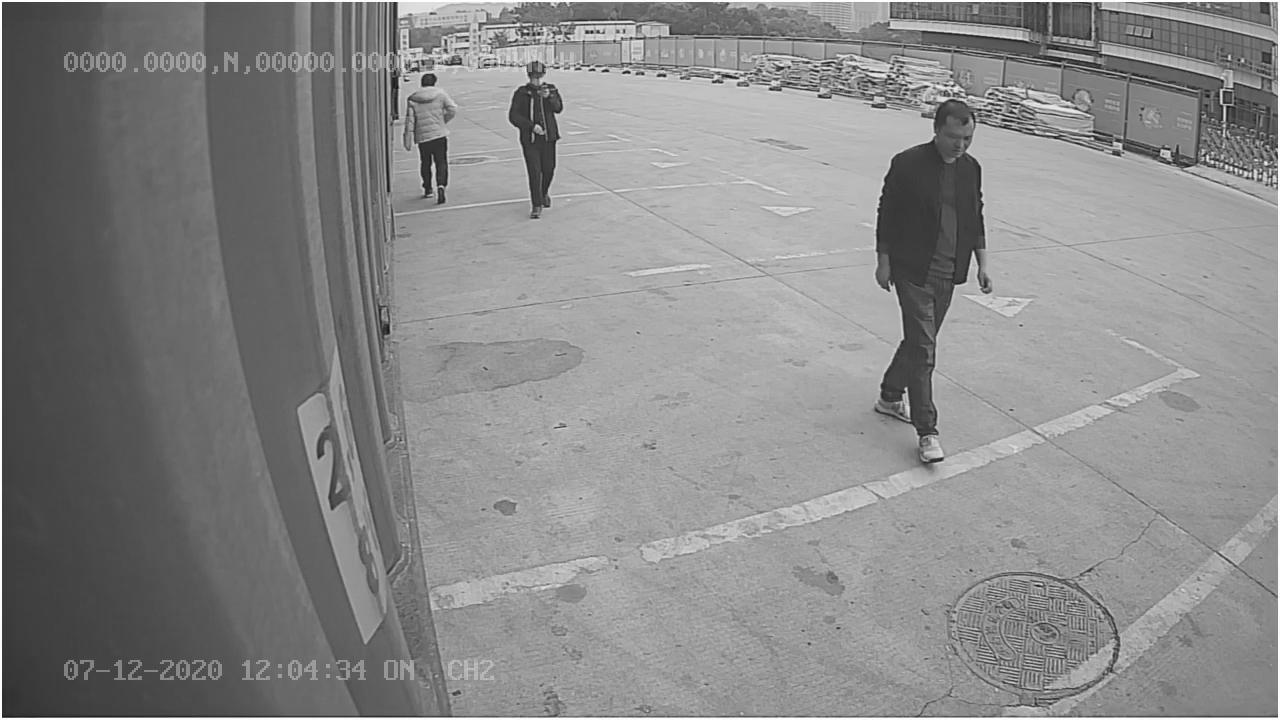person: (873, 95, 997, 466)
